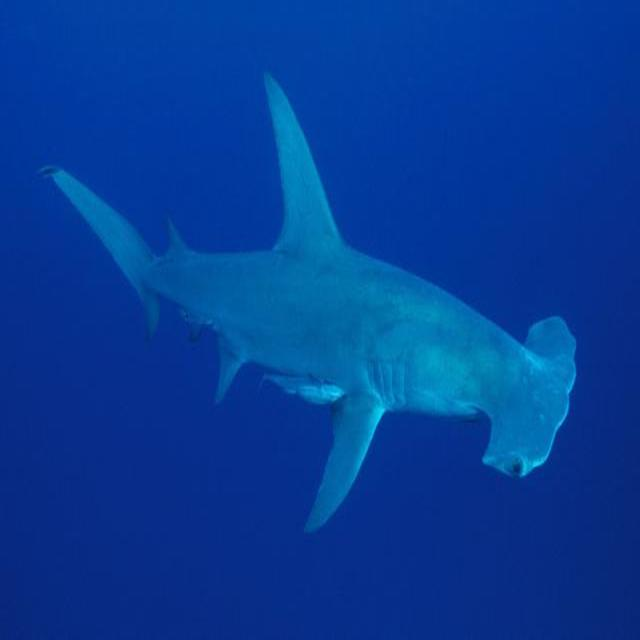hammerhead: (418, 245, 607, 497)
